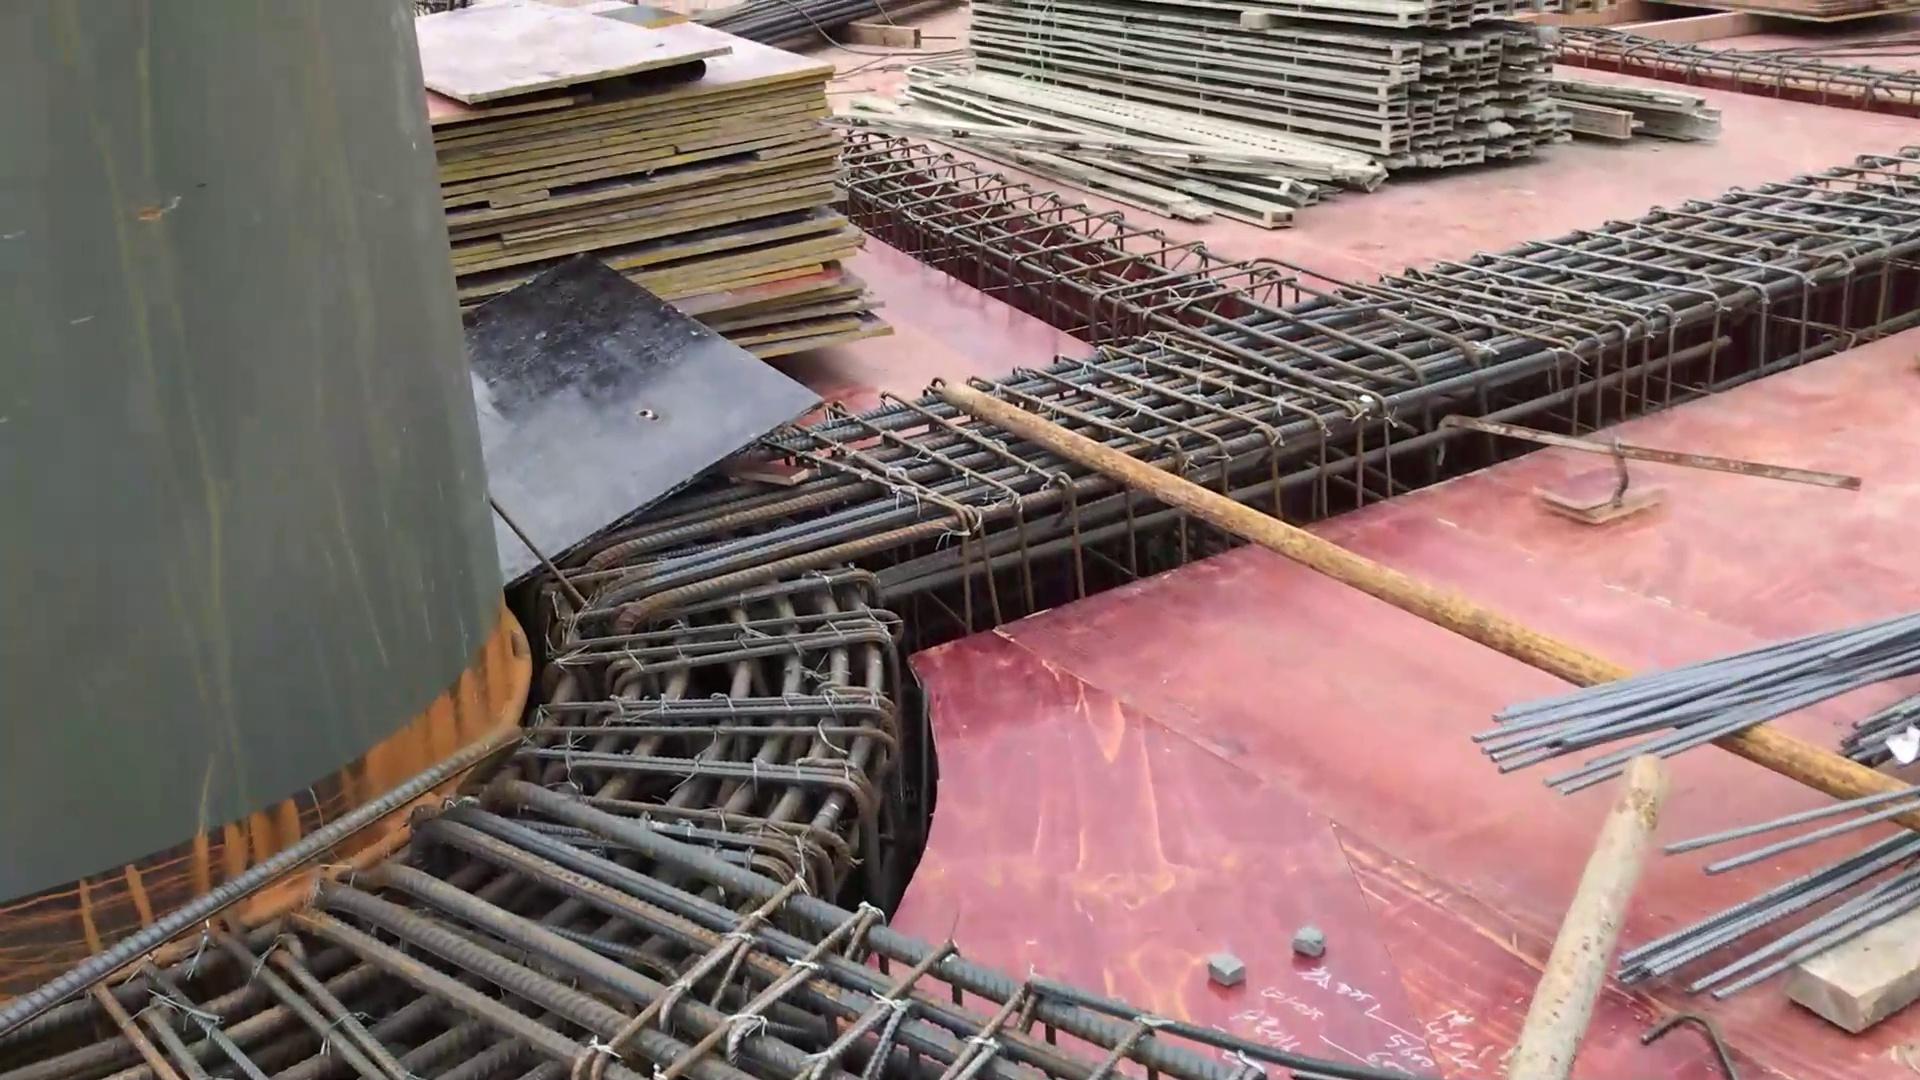board: (436, 1, 895, 352)
rebar: (1449, 593, 1920, 1005)
